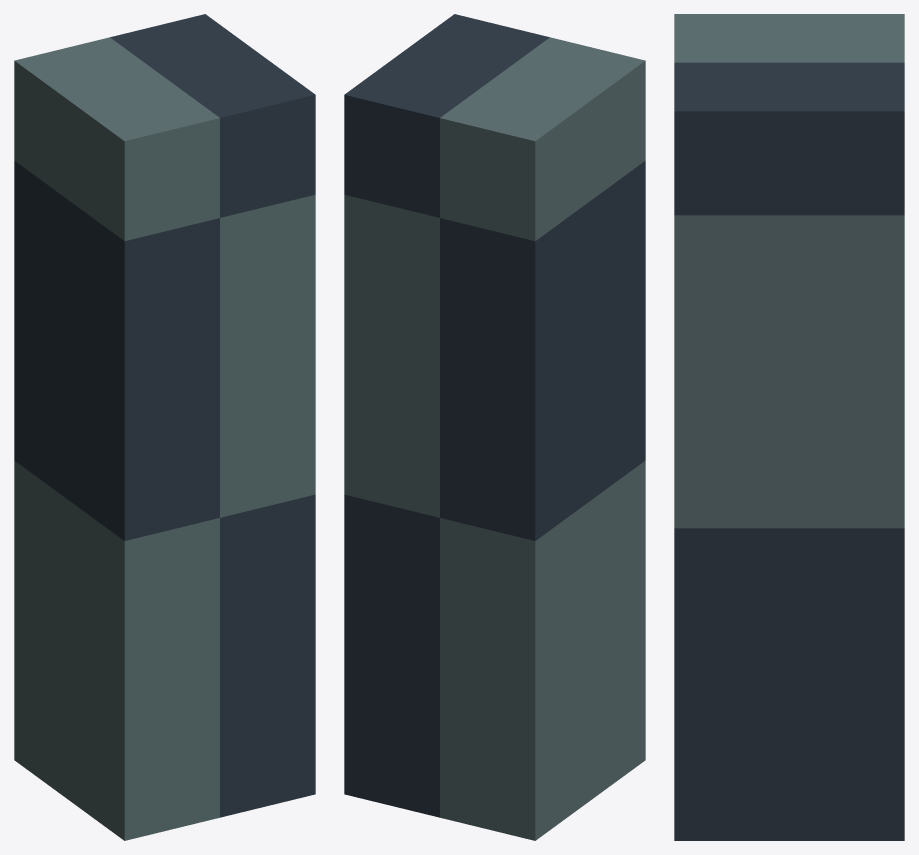
The model's file is TopRightLeg.obj.
The picture shows the model from 3 angles, left to right: view 1: azimuth 30°, elevation 25°; view 2: azimuth 150°, elevation 25°; view 3: azimuth 270°, elevation 25°; orthographic projection. The views are drawn at different scales.
Bounding box in the file's own units: 2 × 7 × 2.
Materials: 1 (1 with a texture image).
